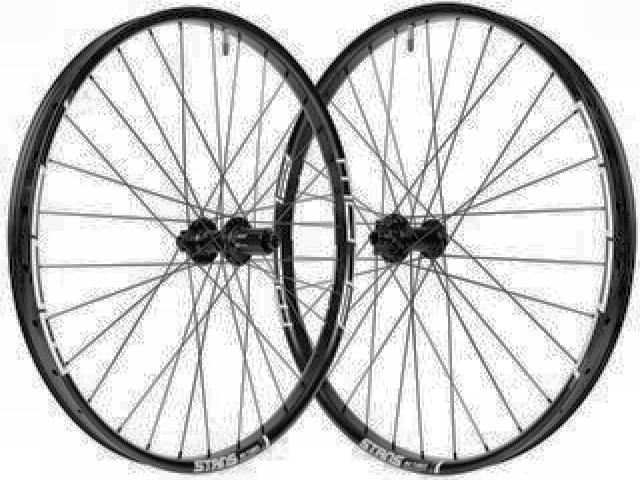wheel: (271, 2, 637, 472), (7, 4, 362, 476)
